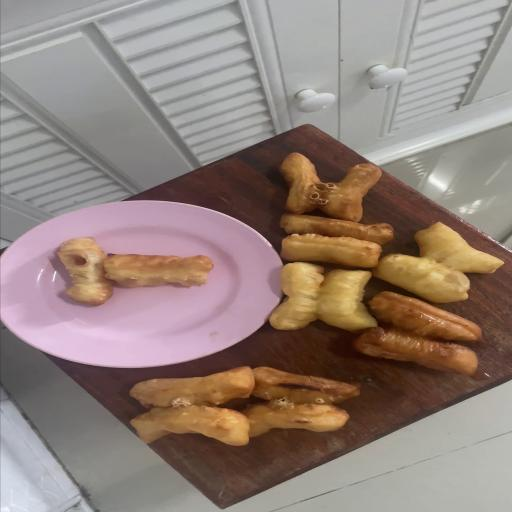street_golden_defect: (130, 367, 358, 446)
